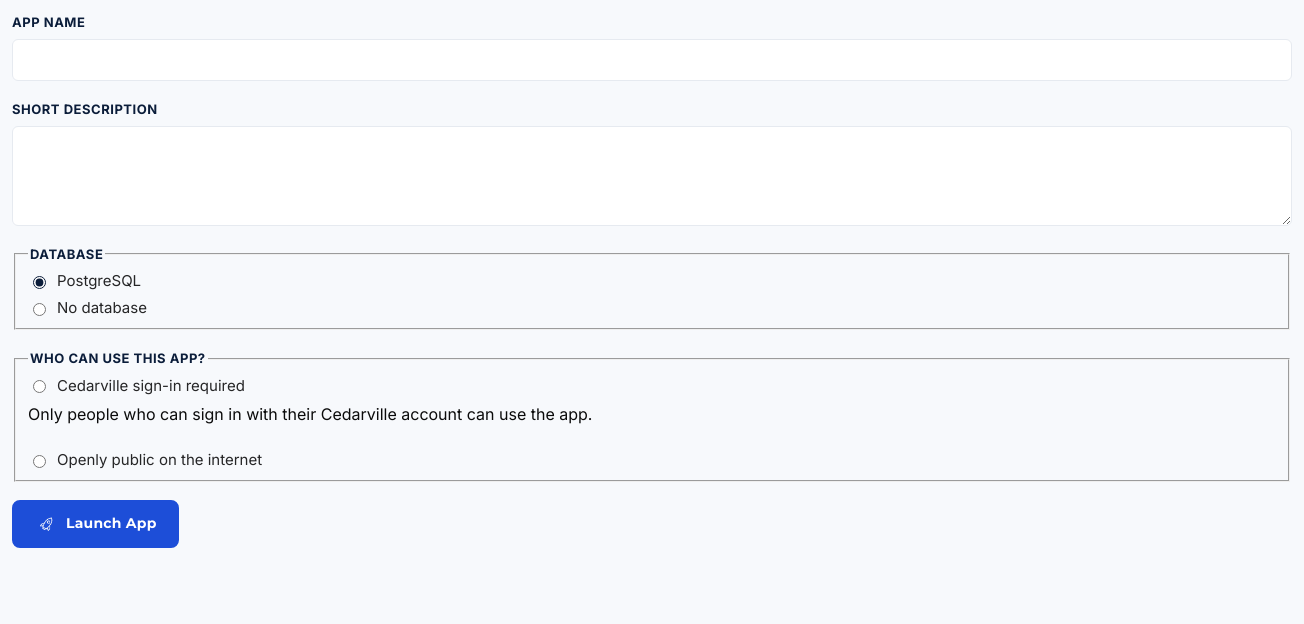
Test case: TemplateForm › preserves entered fields and shows recoverable submission conflicts
The image size is (1304, 624).
Type "Campus Hub" into the field labelled "App Name" at (652, 60), box [12,39,1292,81]
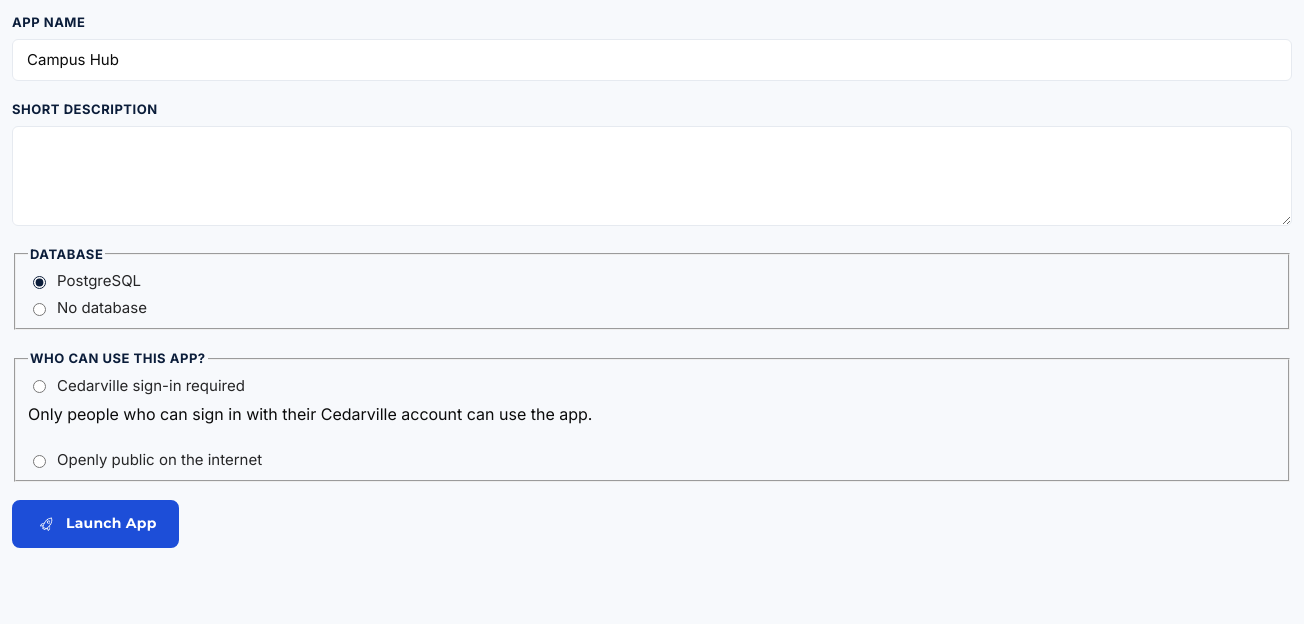
Type "Keep my description" into the text box labelled "Short Description" at (652, 176), box [12,126,1292,226]
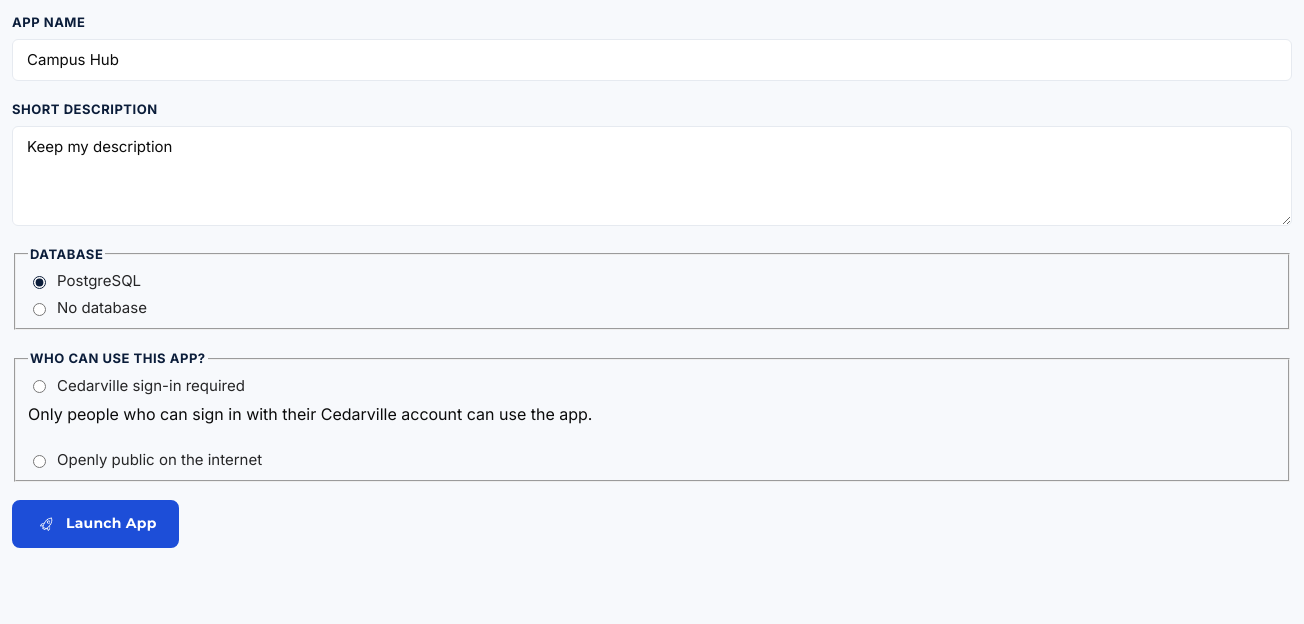
Click the radio button labelled "Cedarville sign-in required" at (40, 387), box [33,380,46,393]
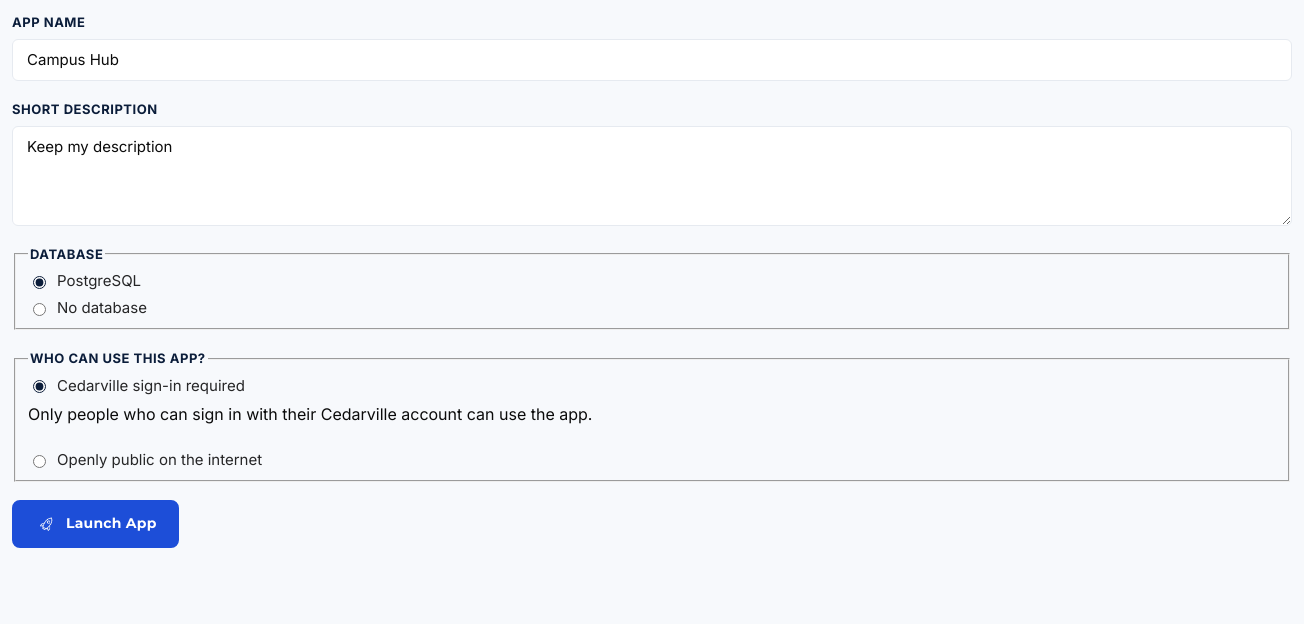
Submit the form
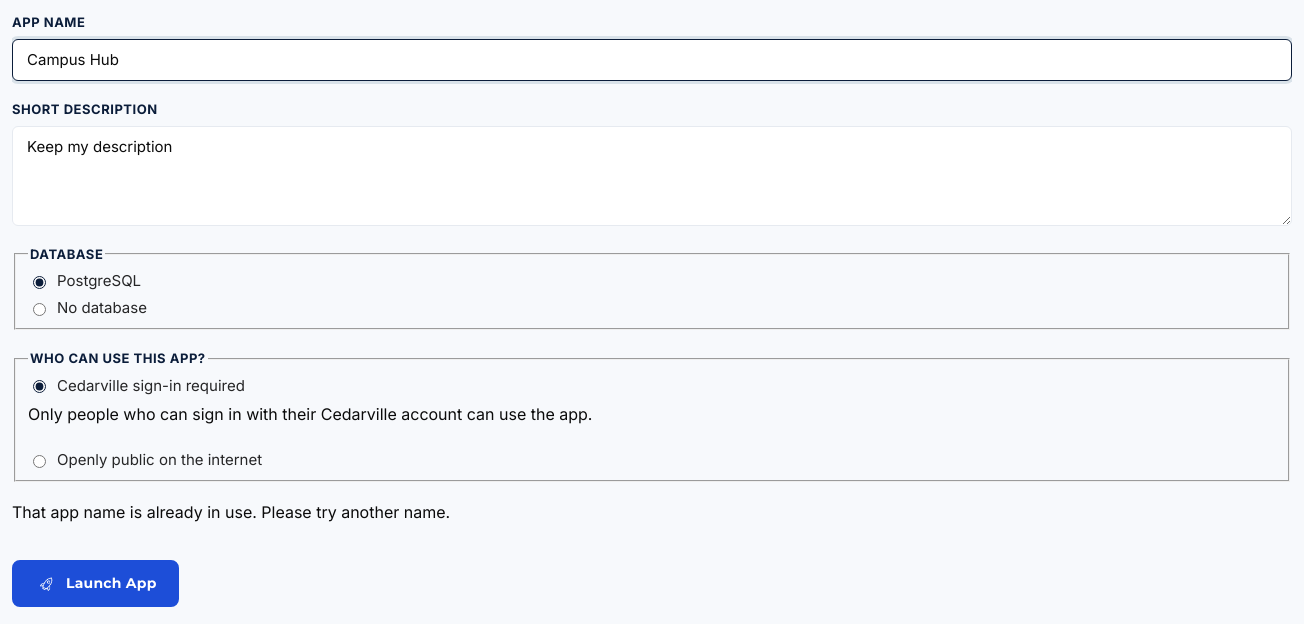
Now the radio button labelled "Cedarville sign-in required" is checked, box [33,380,46,393]
Now the message shows "already in use", box [12,502,450,522]
Replace the text in the field labelled "App Name" with "Another name" at (652, 60), box [12,39,1292,81]
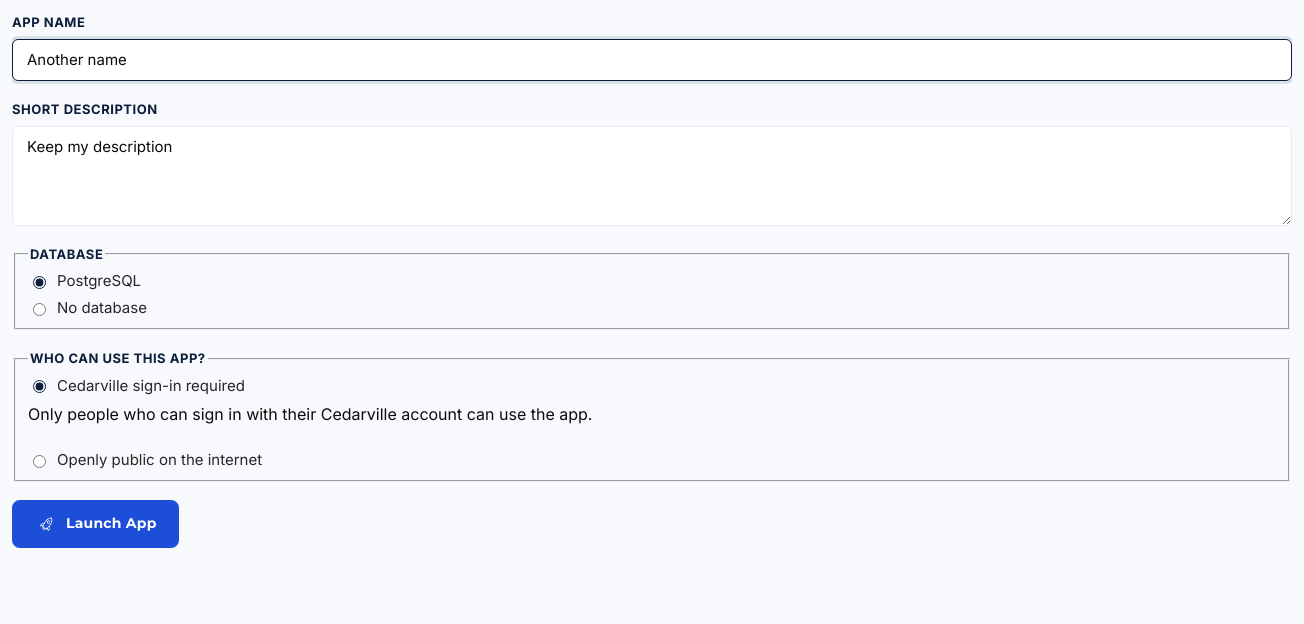
Now the message "That app name is already in use. Please try another name." is gone
